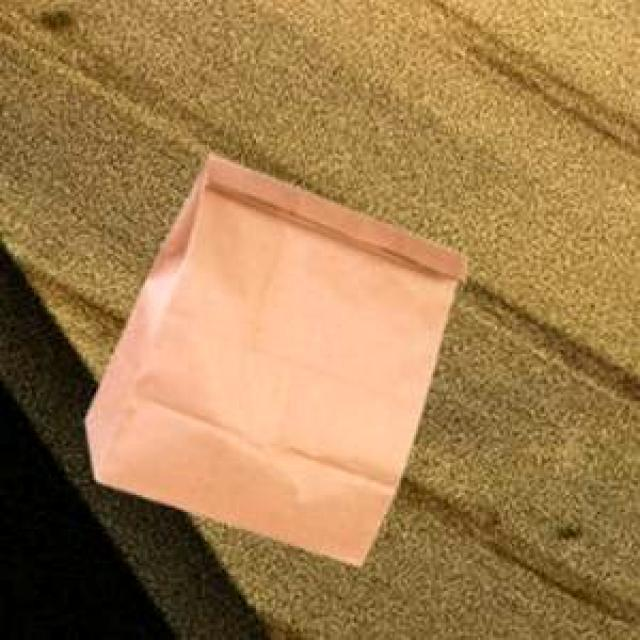Paper_Bag: (82, 152, 464, 562)
